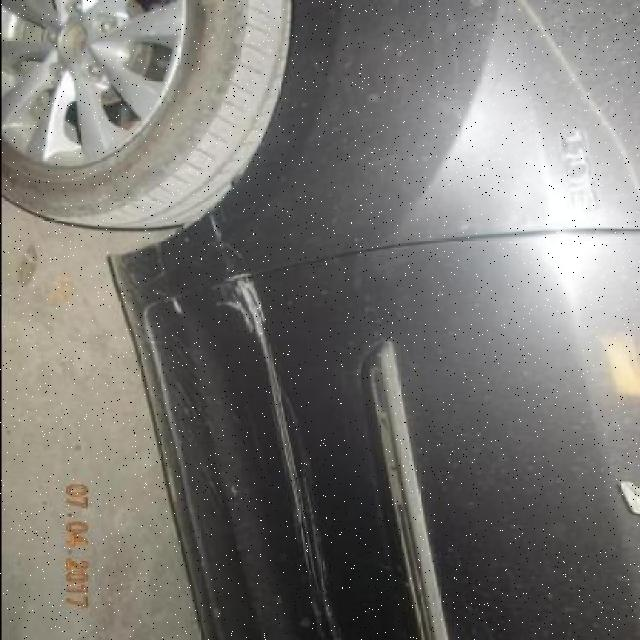damage: (206, 256, 344, 639), (107, 259, 197, 515), (165, 297, 186, 320), (220, 482, 238, 501)
